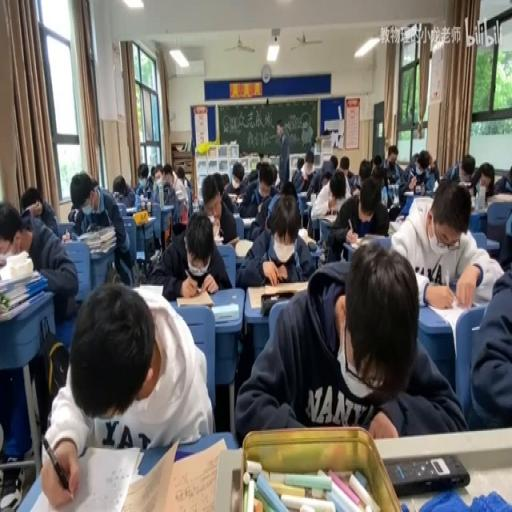calculator: (422, 296, 480, 336), (246, 282, 309, 310), (174, 288, 214, 306), (130, 283, 164, 302), (210, 300, 238, 322), (297, 224, 317, 248), (233, 236, 254, 256), (128, 214, 158, 228), (346, 234, 370, 250), (364, 232, 390, 242), (310, 240, 323, 258), (490, 192, 512, 202), (388, 182, 398, 199), (320, 213, 338, 222), (388, 219, 398, 235), (241, 214, 255, 224), (296, 190, 306, 198), (395, 215, 405, 223), (125, 205, 136, 212), (458, 180, 470, 186), (403, 191, 415, 196), (306, 198, 312, 204)
paper: (234, 243, 458, 441), (43, 279, 211, 506), (389, 181, 500, 310), (0, 196, 78, 328), (467, 252, 512, 430), (235, 191, 315, 287), (150, 206, 232, 299), (68, 170, 130, 288), (326, 174, 389, 260), (400, 148, 438, 202), (156, 164, 181, 230), (442, 154, 477, 192), (496, 202, 512, 273), (308, 155, 335, 195), (222, 161, 246, 202), (382, 147, 405, 189), (276, 118, 290, 182), (112, 174, 135, 208), (490, 165, 512, 196), (278, 179, 298, 202), (290, 165, 306, 192), (213, 171, 227, 195), (330, 181, 345, 202), (184, 182, 192, 219), (358, 158, 371, 180), (480, 168, 493, 189), (134, 183, 148, 202), (270, 162, 278, 184), (174, 165, 184, 182), (410, 151, 420, 168), (339, 155, 349, 172), (372, 155, 382, 171), (137, 168, 146, 185), (248, 168, 258, 182), (381, 184, 387, 206), (296, 156, 304, 170), (305, 156, 313, 170), (255, 160, 262, 174), (330, 155, 336, 171), (182, 176, 189, 188), (426, 155, 432, 169), (322, 174, 330, 184), (150, 164, 156, 176)
person: (384, 452, 468, 494), (145, 200, 150, 214), (234, 195, 240, 205)
